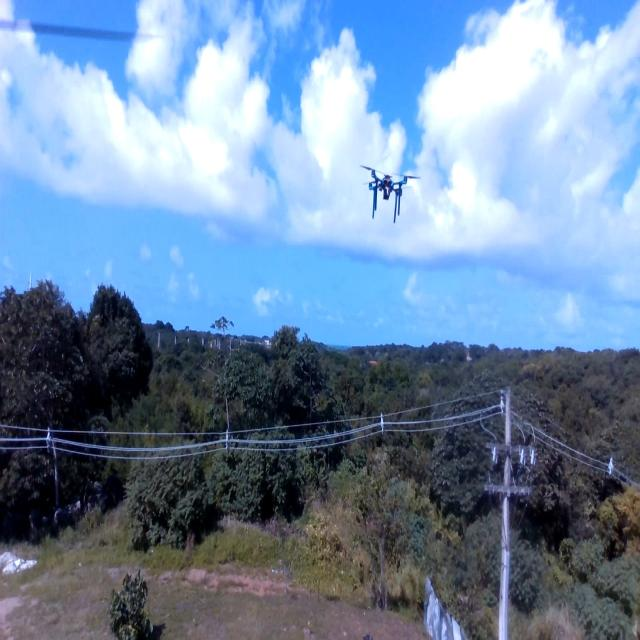-uav-: (353, 146, 424, 229)
